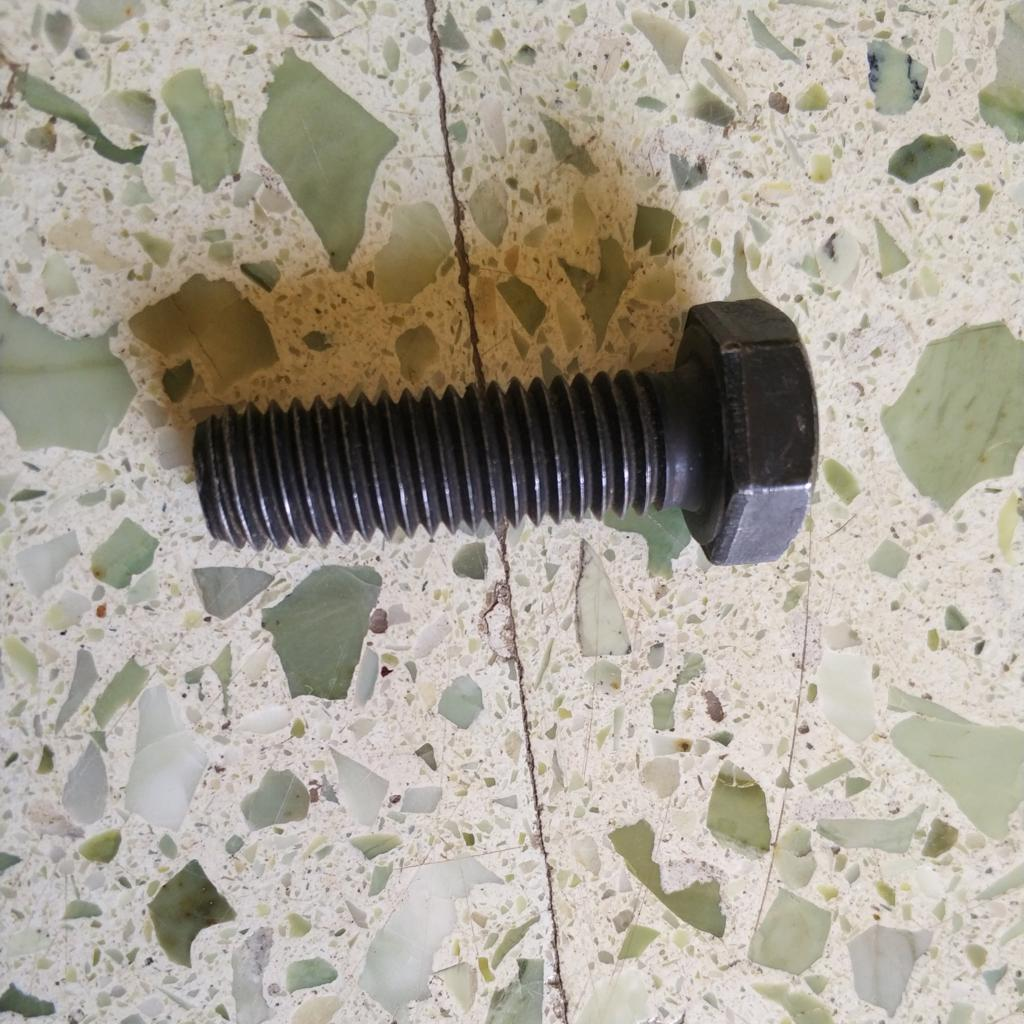screwtype2black: (188, 294, 820, 584)
